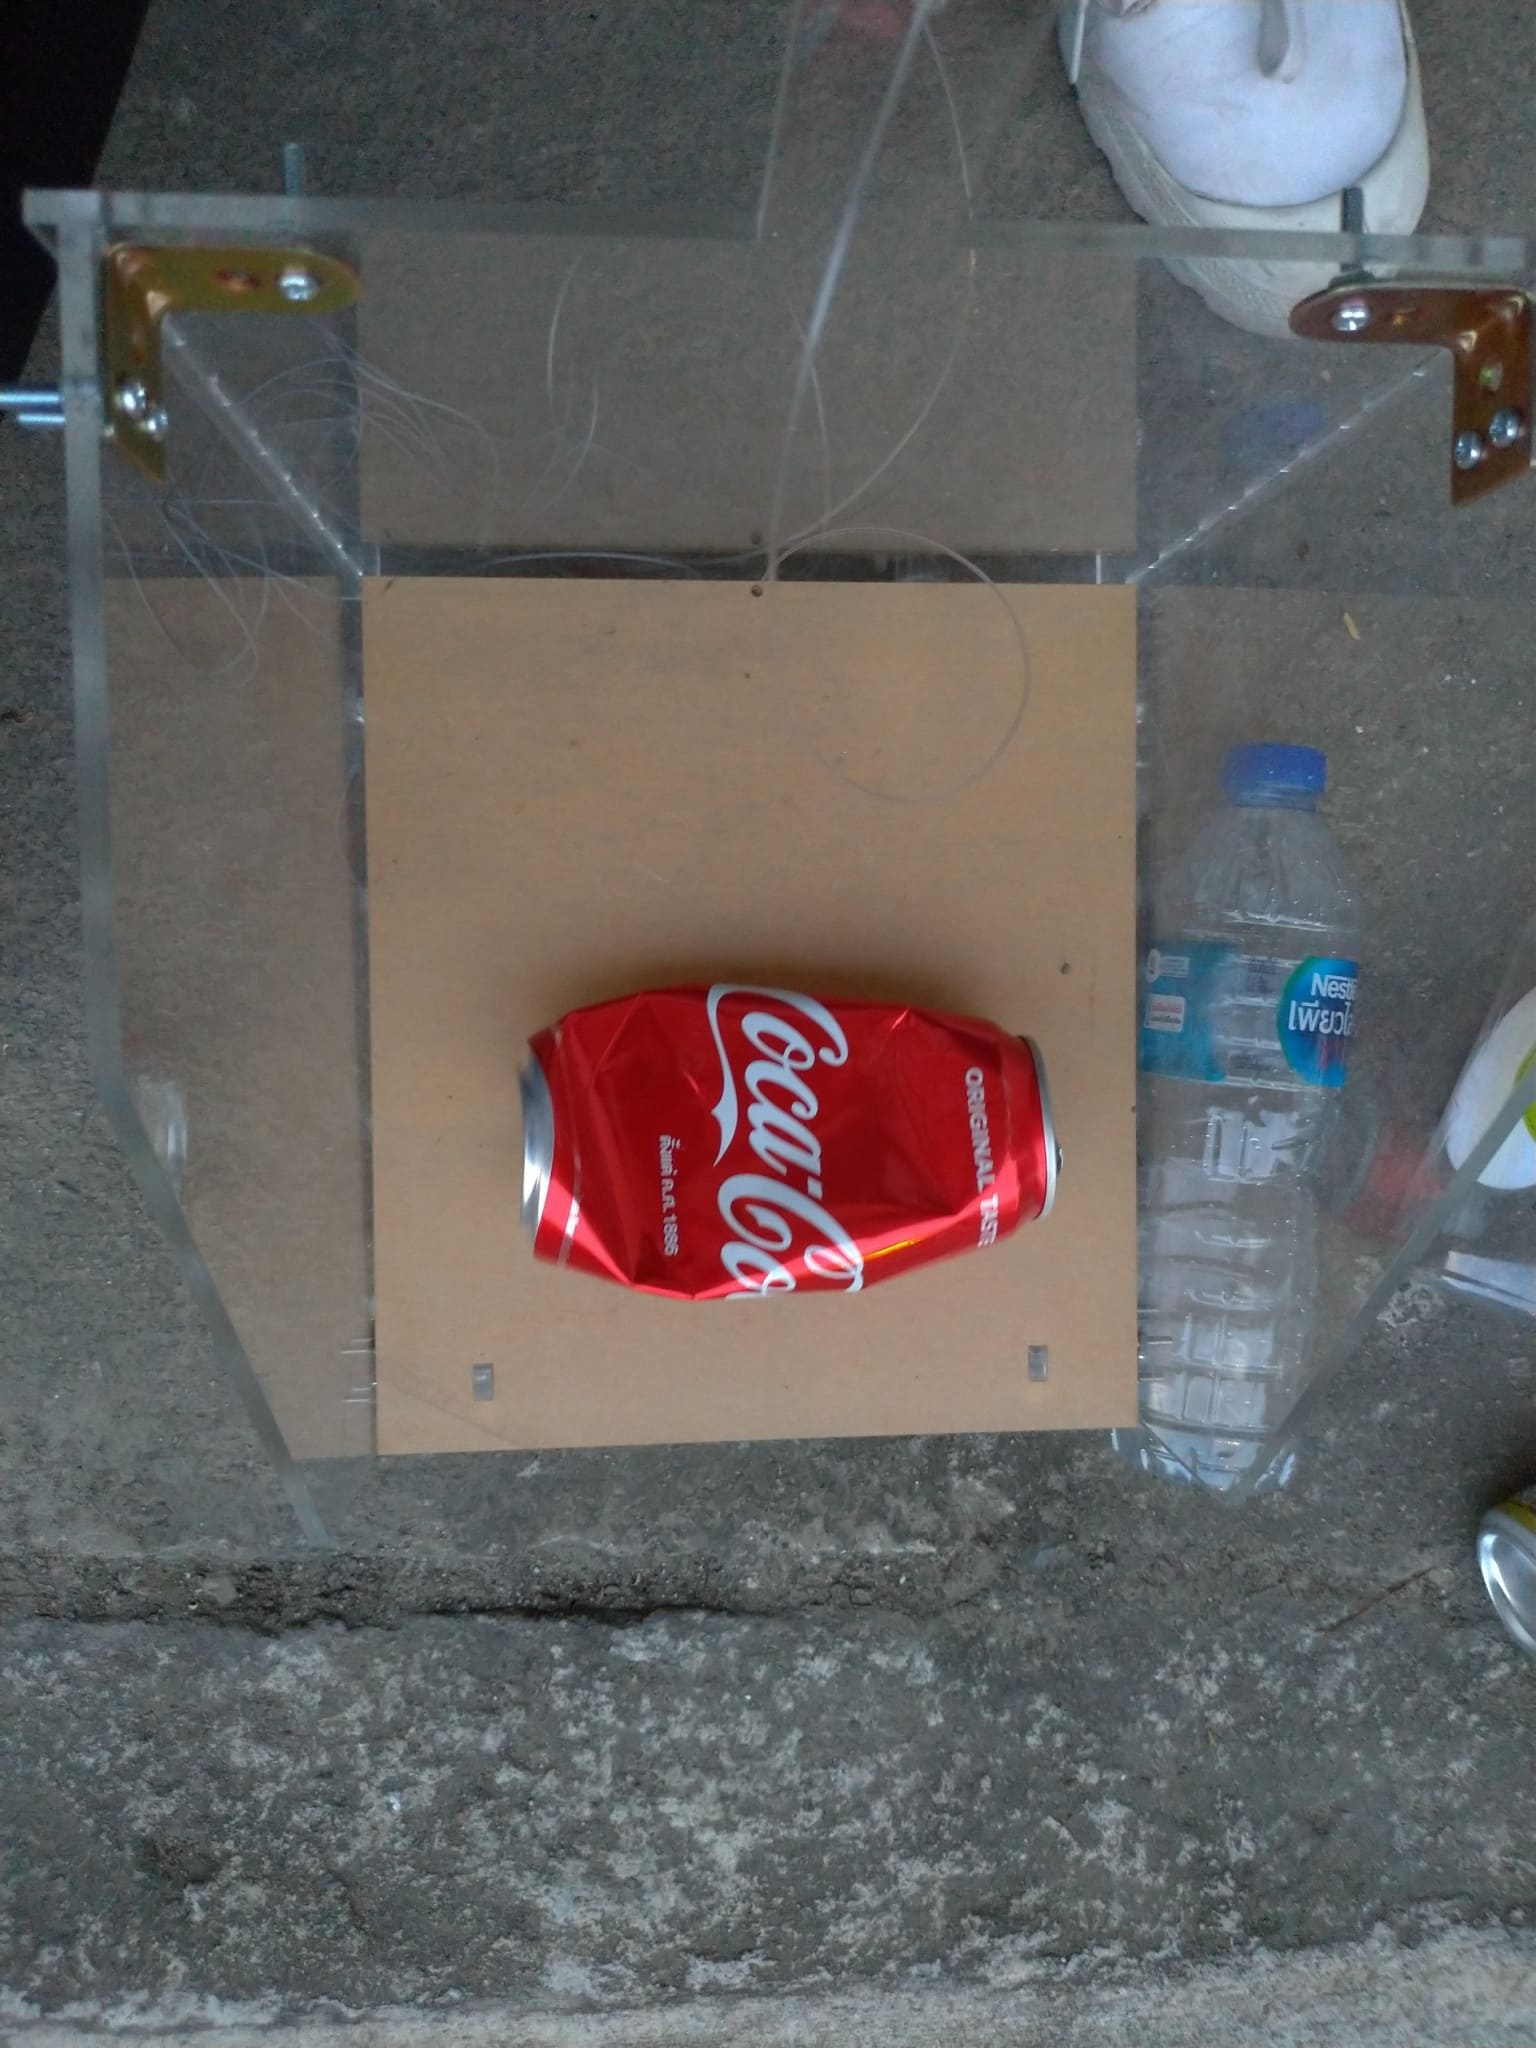AlCan: (511, 971, 1071, 1316)
PlasticBottle: (1120, 745, 1362, 1493)
